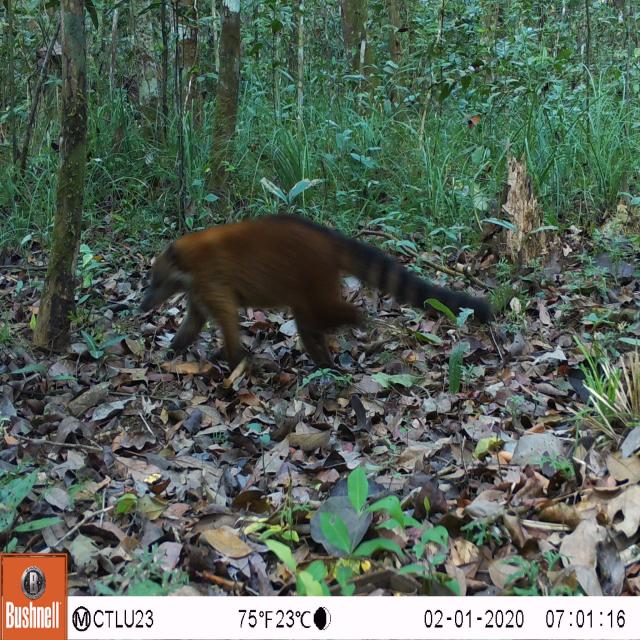South American Coati: (120, 200, 502, 394)
